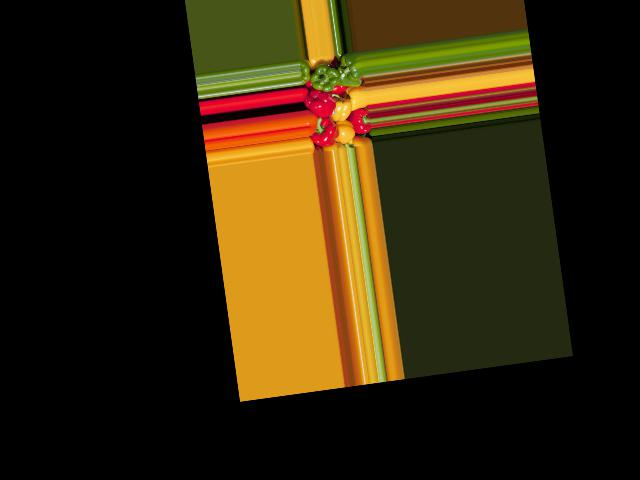bell_pepper: (297, 57, 315, 85)
